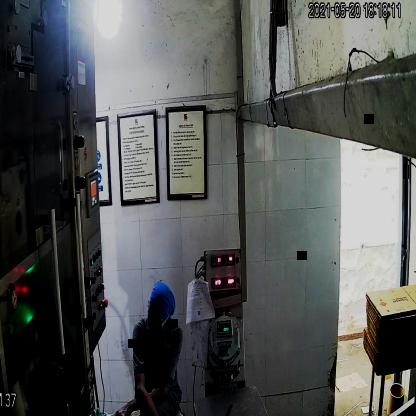goggles: (144, 304, 172, 329)
